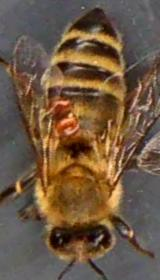varroa_mite: (52, 112, 85, 144), (48, 93, 74, 116)
